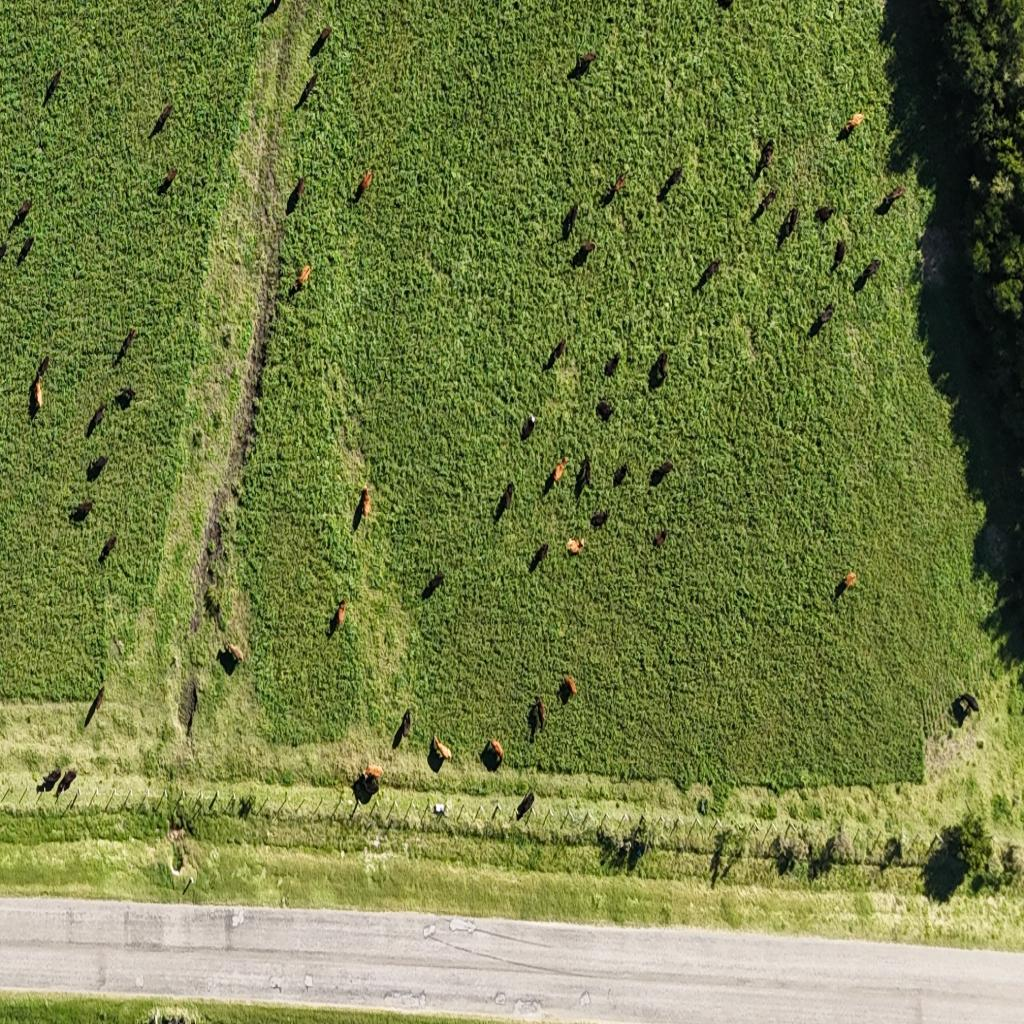cow: (360, 762, 385, 801), (657, 166, 684, 202), (296, 70, 320, 110), (6, 200, 31, 236), (854, 260, 882, 292), (182, 681, 198, 736), (357, 482, 373, 536), (150, 100, 172, 138), (778, 207, 798, 247), (570, 51, 597, 80), (954, 692, 980, 722), (810, 304, 834, 336), (85, 686, 104, 726), (697, 258, 720, 290), (838, 112, 864, 140), (352, 168, 372, 204), (220, 640, 244, 670), (43, 67, 61, 106), (879, 186, 905, 213), (116, 328, 136, 363), (286, 177, 304, 215), (546, 338, 568, 369), (308, 28, 330, 59), (86, 403, 106, 437), (528, 697, 546, 734), (495, 482, 513, 519), (394, 710, 412, 747), (430, 734, 452, 764), (69, 498, 95, 523), (548, 456, 567, 490), (573, 239, 596, 267), (292, 264, 312, 296), (157, 166, 178, 196), (482, 739, 502, 770), (422, 572, 444, 600), (576, 456, 591, 497), (562, 203, 579, 239), (332, 596, 348, 634), (516, 790, 535, 822), (40, 767, 62, 794), (757, 187, 778, 215), (558, 675, 578, 704), (830, 237, 846, 273), (88, 452, 108, 480), (55, 768, 75, 796), (30, 379, 44, 418), (17, 236, 35, 266), (650, 462, 672, 486), (261, 0, 283, 24), (99, 531, 116, 562), (115, 386, 136, 410), (530, 543, 548, 571), (649, 360, 667, 388), (760, 138, 775, 171), (521, 412, 537, 441), (206, 599, 222, 628), (815, 204, 836, 226), (604, 352, 621, 379), (839, 571, 858, 595), (596, 400, 614, 424), (652, 526, 668, 550), (612, 463, 628, 487), (612, 173, 628, 197), (567, 536, 586, 556), (590, 509, 609, 529), (37, 354, 51, 380), (0, 240, 8, 264)
